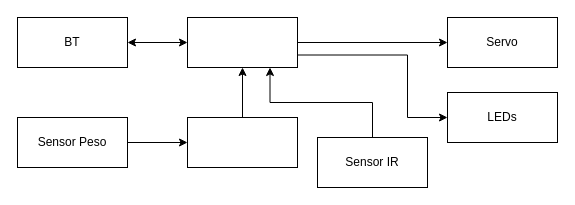
Some shapes in this 575 by 205 pixel diagram are drawn without their labels. The centre of each missing label's shape, as x and y in pixels:
"Control" belongs at pixel 242 42.
"Conversor" belongs at pixel 242 142.
